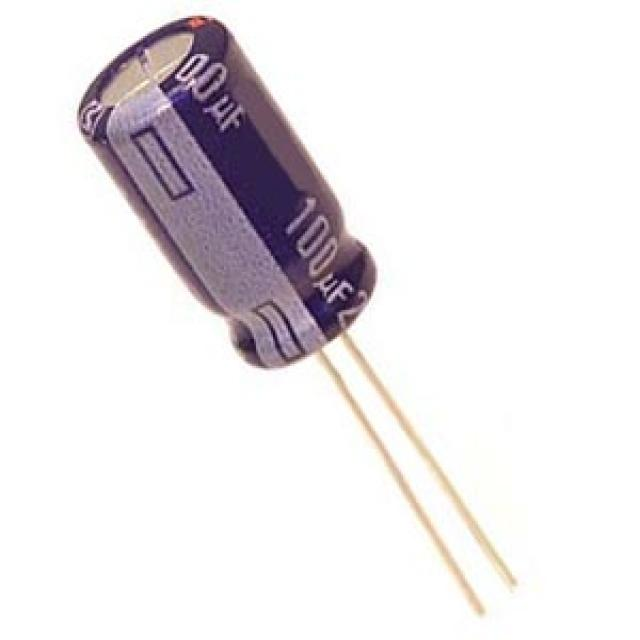Capacitor: (79, 16, 518, 615)
